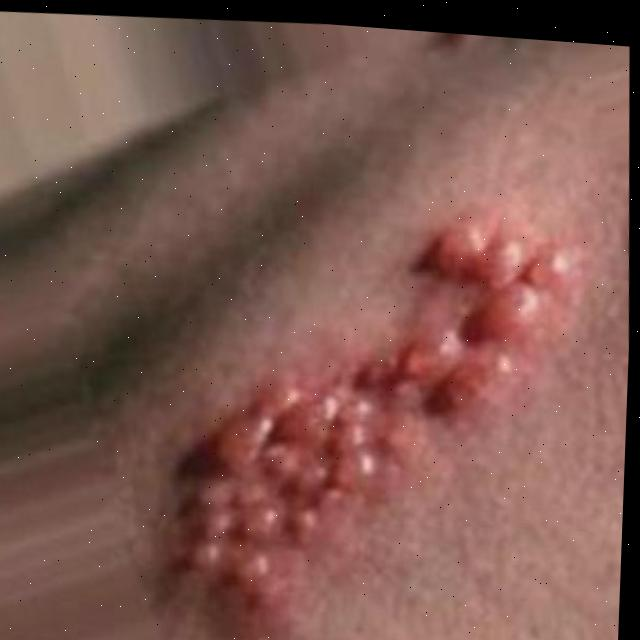Shingles: (148, 204, 593, 640)
